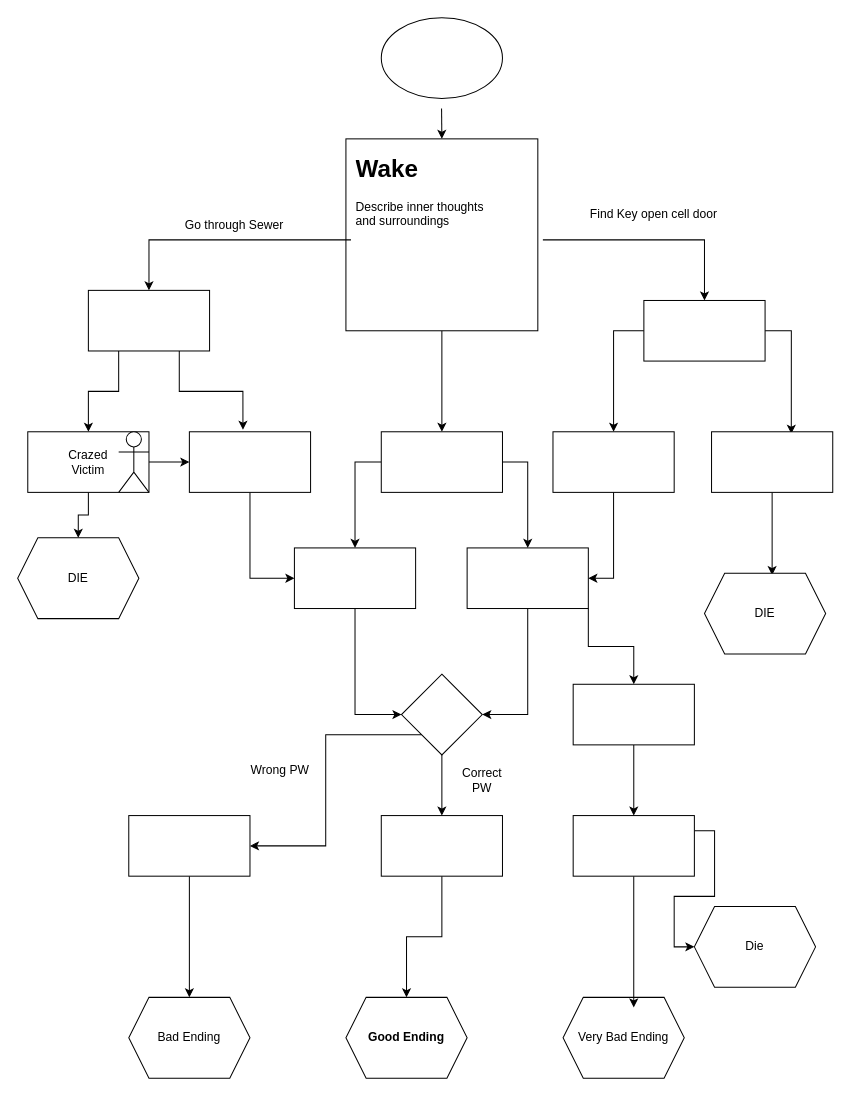
This 850x1096 diagram has some shape labels left out. The shapes that lost their labels are listed below. From the top down, each one's centre as x and y in pixels, then its label:
At (x=441, y=57): "Start Adventure".
At (x=133, y=461): "Actor".
At (x=441, y=714): "Password Door".
